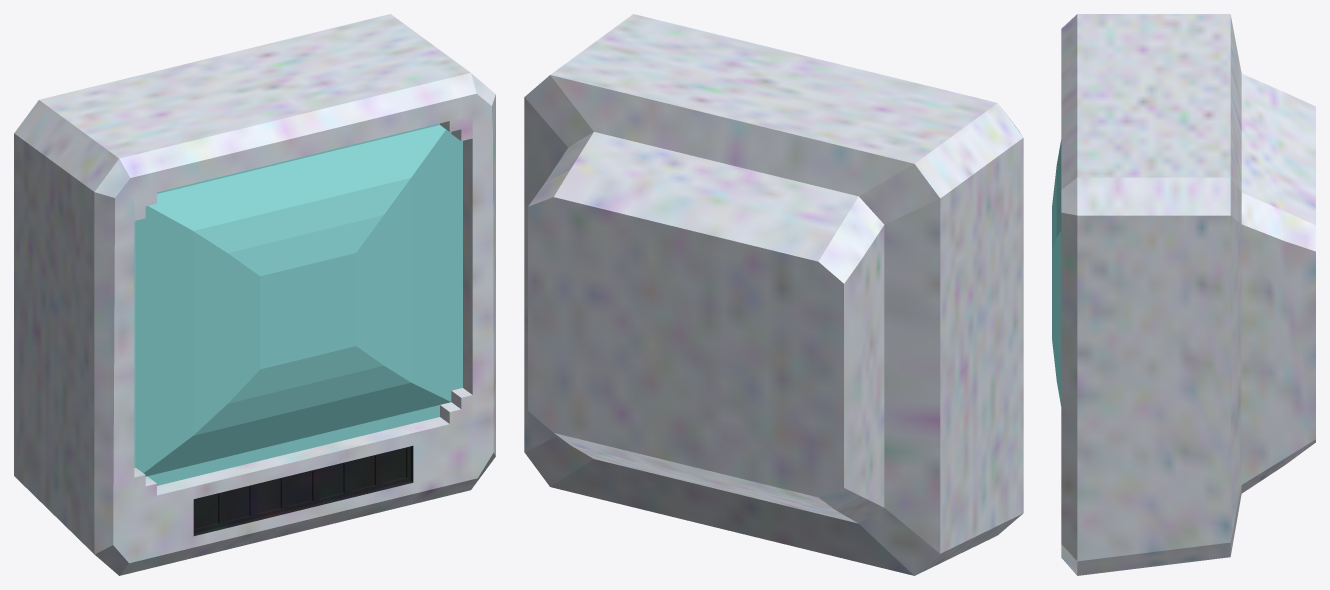
File: Spectator.fbx
The picture shows the model from 3 angles, left to right: view 1: azimuth 30°, elevation 25°; view 2: azimuth 150°, elevation 25°; view 3: azimuth 270°, elevation 25°; orthographic projection. The views are drawn at different scales.
Parts seen in each view (by area): view 1: Spectator; view 2: Spectator; view 3: Spectator.
Part boxes in pixels (x1,y1,x2,y2): Spectator: (14, 14, 495, 575); Spectator: (524, 14, 1023, 575); Spectator: (1052, 14, 1315, 575).
Bounding box in the file's own units: 90.84 × 90.27 × 54.2.
2 materials, 1 textured.
